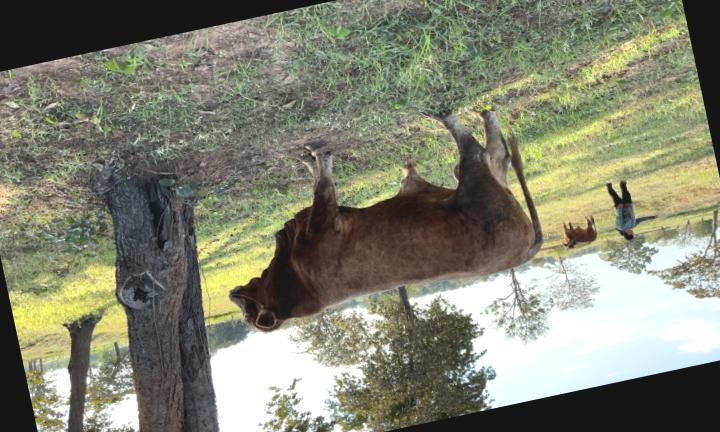Charolais: (229, 111, 543, 332)
